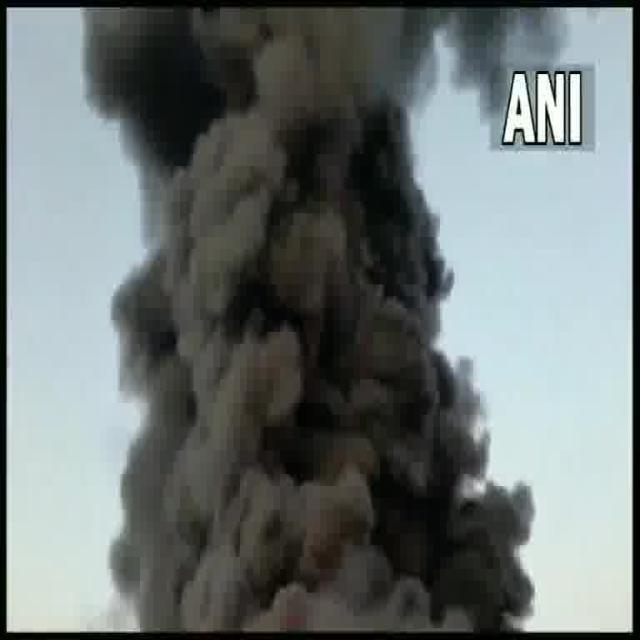Smoke: (116, 34, 445, 616)
